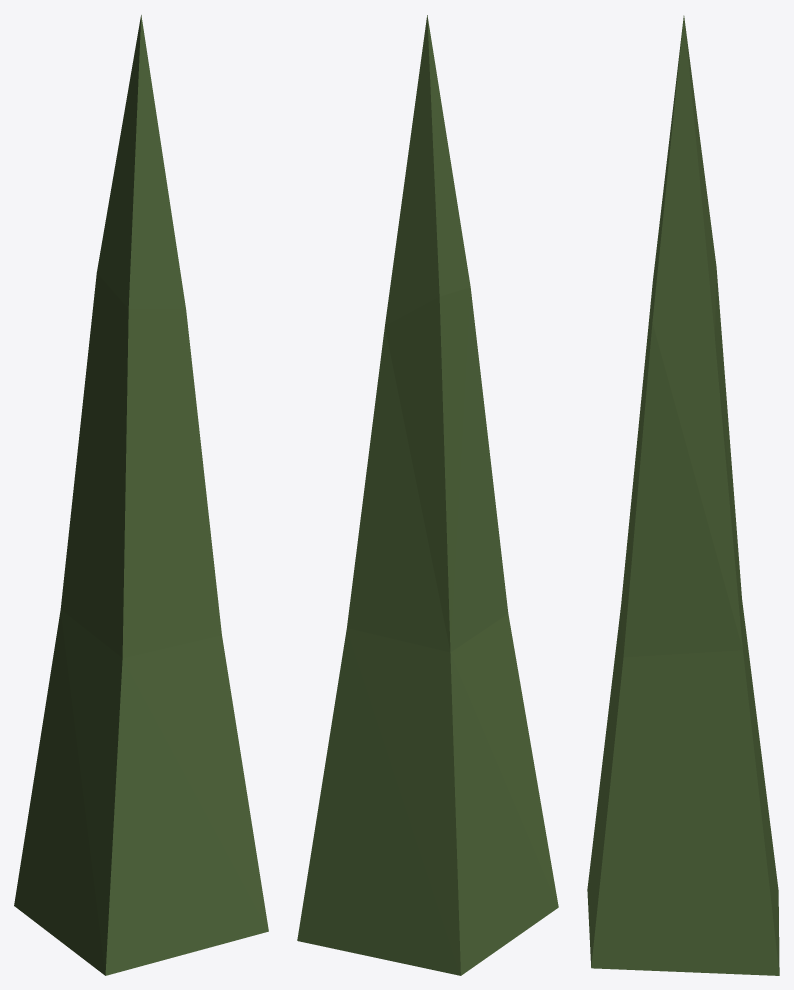
The model's file is tree_09.fbx.
3 views of the same model, side by side, from view 1: azimuth 30°, elevation 25°; view 2: azimuth 150°, elevation 25°; view 3: azimuth 270°, elevation 25° (orthographic).
Parts seen in each view (by area): view 1: tree_09; view 2: tree_09; view 3: tree_09.
Boxes of the visible parts, x1=… form: tree_09: x1=14, y1=15, x2=268, y2=975; tree_09: x1=297, y1=15, x2=558, y2=975; tree_09: x1=587, y1=15, x2=779, y2=975.
Size of the model in its own units: 142 by 743 by 141.
